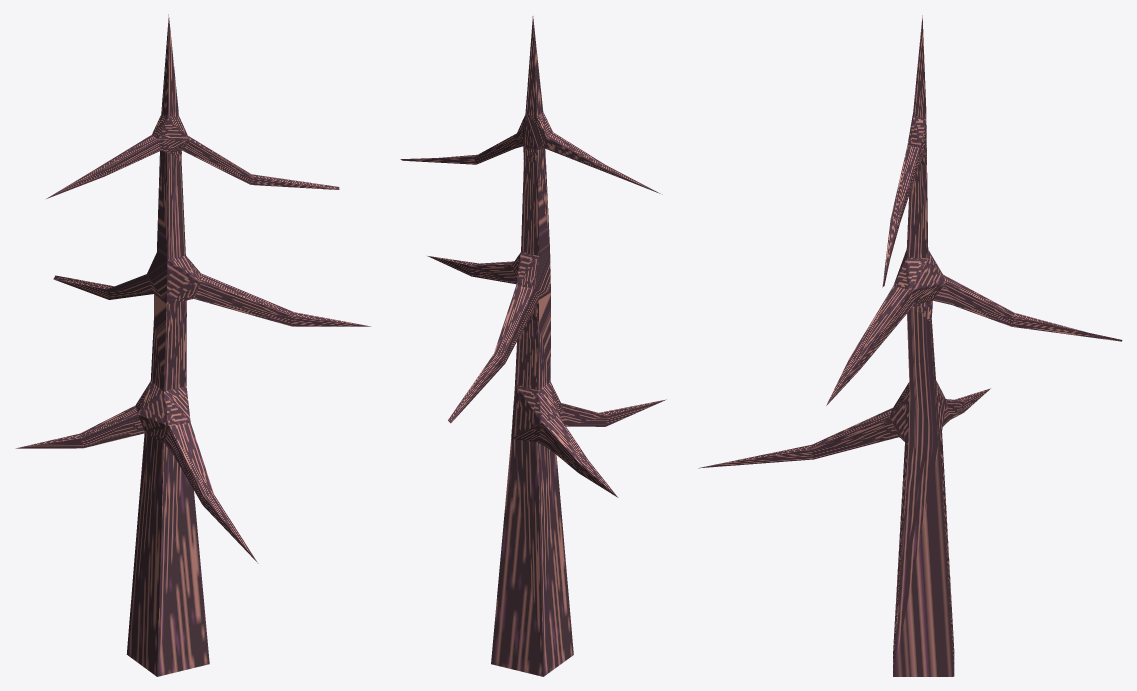
Rendered from Tree_4.obj.
3 views of the same model, side by side, from view 1: azimuth 30°, elevation 25°; view 2: azimuth 150°, elevation 25°; view 3: azimuth 270°, elevation 25° (orthographic).
Parts seen in each view (by area): view 1: Cube.014_Cube.078; view 2: Cube.014_Cube.078; view 3: Cube.014_Cube.078.
Boxes of the visible parts, x1,y1,x2,y2 form: Cube.014_Cube.078: (15, 14, 371, 676); Cube.014_Cube.078: (400, 16, 666, 676); Cube.014_Cube.078: (698, 15, 1122, 676).
Size of the model in its own units: 18.45 by 40.36 by 23.98.
